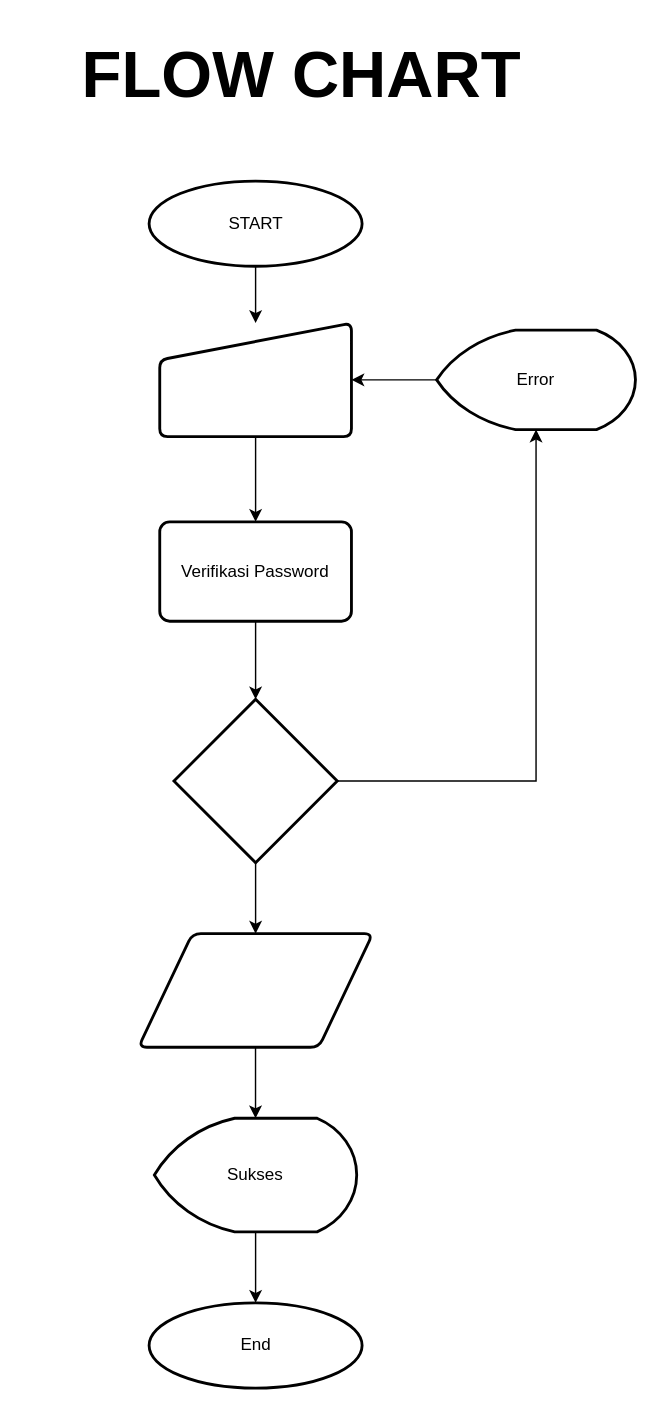
Some shapes in this 660 by 1413 pixel diagram are drawn without their labels. Each missing label, with the centre of its shape:
Kirim Data ke Sistem: point (254, 990)
Masukan Username,Password, Konfirmasi Password: point (255, 379)
Password Sama?: point (255, 780)
